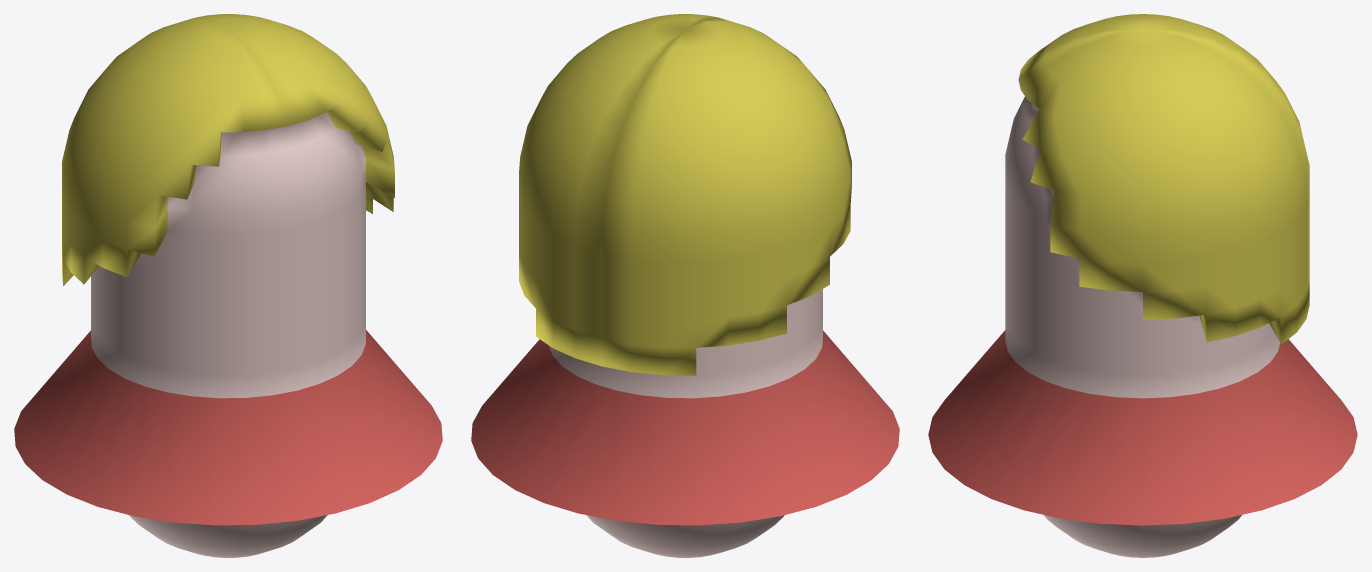
Rendered from Suzy.fbx.
3 renders of one model, left to right at view 1: azimuth 30°, elevation 25°; view 2: azimuth 150°, elevation 25°; view 3: azimuth 270°, elevation 25°, orthographic.
Parts seen in each view (by area): view 1: Suzy; view 2: Suzy; view 3: Suzy.
Boxes of the visible parts, x1,y1,x2,y2 form: Suzy: (14,14,442,557); Suzy: (471,14,899,557); Suzy: (928,14,1357,557).
Bounding box in the file's own units: 1.19 × 1.57 × 1.19.
